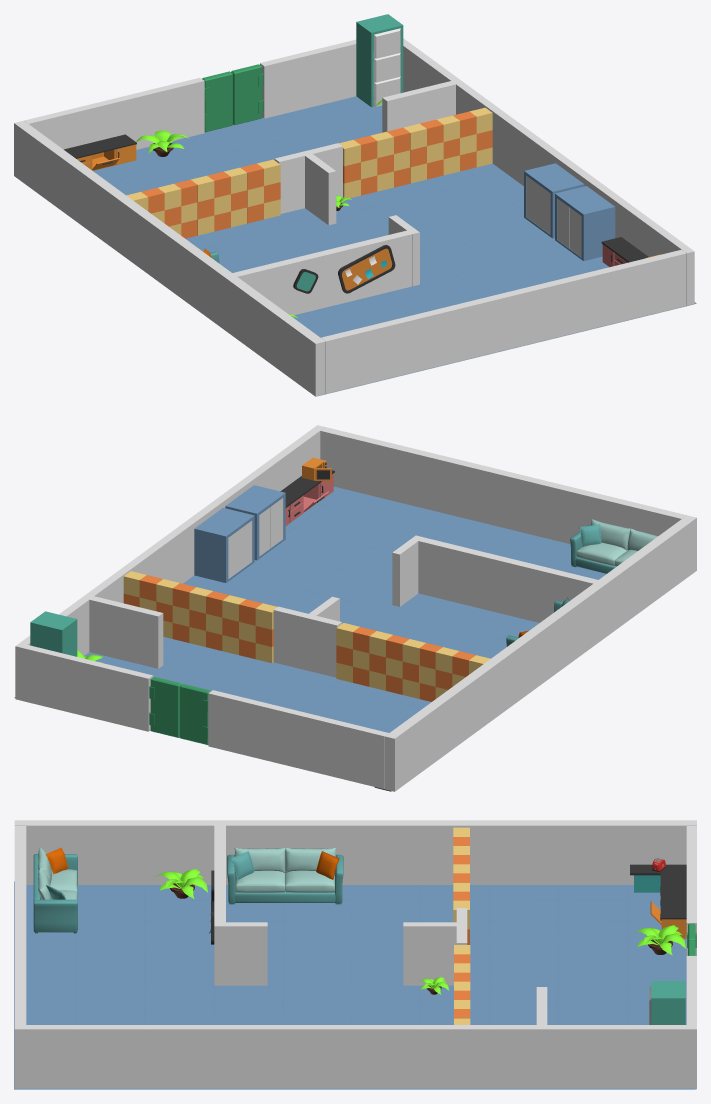
The model's file is maps_22.fbx.
3 views of the same model, one above another, from view 1: azimuth 30°, elevation 25°; view 2: azimuth 150°, elevation 25°; view 3: azimuth 270°, elevation 25° (orthographic). The views are drawn at different scales.
Visible parts, largest first — view 1: wall_01_08_geo, wall_01_05_geo, wall_01_07_geo, wall_01_06_geo, wall_01_09_geo, wall_01_03_geo, wall_01_10_geo, polySurface189, tu_01_01_geo, wall_01_01_geo, wall_01_02_geo, wall_01_11_geo1 (+8 smaller); view 2: wall_01_08_geo, wall_01_07_geo, wall_01_05_geo, wall_01_09_geo, wall_01_03_geo, wall_01_06_geo, wall_01_10_geo, wall_01_01_geo, wall_01_02_geo, sofa_geo1, tu_02_01_geo, polySurface189 (+7 smaller); view 3: wall_01_08_geo, wall_01_06_geo, wall_01_07_geo, sofa_geo, sofa_geo1, wall_01_11_geo, wall_01_11_geo1, wall_01_05_geo, polySurface99, polySurface189, wall_01_03_geo, wall_01_09_geo (+8 smaller).
Part boxes in pixels (x1,y1,x2,y2): wall_01_08_geo: (93,96,696,395); wall_01_05_geo: (321,249,686,394); wall_01_07_geo: (14,120,325,396); wall_01_06_geo: (403,38,694,306); wall_01_09_geo: (24,77,204,149); wall_01_03_geo: (232,230,411,315); wall_01_10_geo: (260,39,356,118); polySurface189: (356,14,403,107); tu_01_01_geo: (555,186,615,260); wall_01_01_geo: (382,81,455,132); wall_01_02_geo: (274,143,342,213); wall_01_11_geo1: (305,154,336,225); wall_01_08_geo: (14,486,606,744); wall_01_07_geo: (385,515,696,791); wall_01_05_geo: (320,427,686,544); wall_01_09_geo: (208,690,388,789); wall_01_03_geo: (418,537,597,622); wall_01_06_geo: (15,425,324,700); wall_01_10_geo: (23,645,153,731); wall_01_01_geo: (89,596,163,668); wall_01_02_geo: (273,606,341,677); sofa_geo1: (570,519,657,573); tu_02_01_geo: (194,508,254,582); polySurface189: (30,611,77,656); wall_01_08_geo: (14,881,695,1089); wall_01_06_geo: (14,1025,696,1089); wall_01_07_geo: (14,820,696,884); sofa_geo: (227,847,343,904); sofa_geo1: (33,847,77,933); wall_01_11_geo: (214,922,267,985); wall_01_11_geo1: (403,922,456,985); wall_01_05_geo: (14,826,26,1024); polySurface99: (650,872,686,938); polySurface189: (649,981,685,1024); wall_01_03_geo: (214,825,225,922); wall_01_09_geo: (686,826,696,955).
Bounding box in the file's own units: 66.8 × 13.55 × 91.75.
12 materials, 12 textured.
